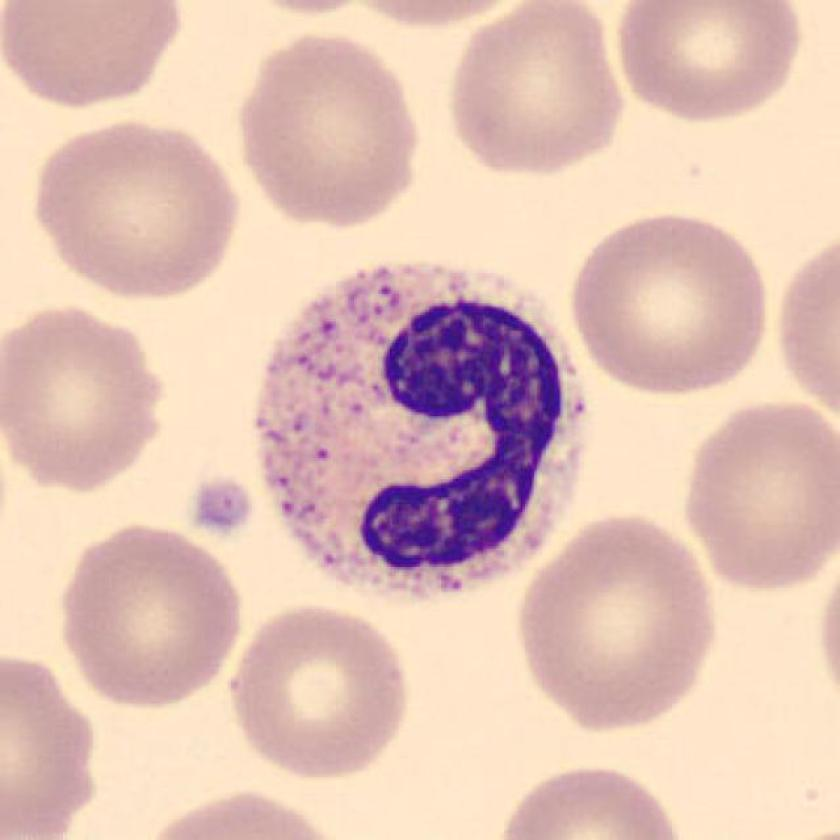neutrophil: (258, 266, 584, 597)
